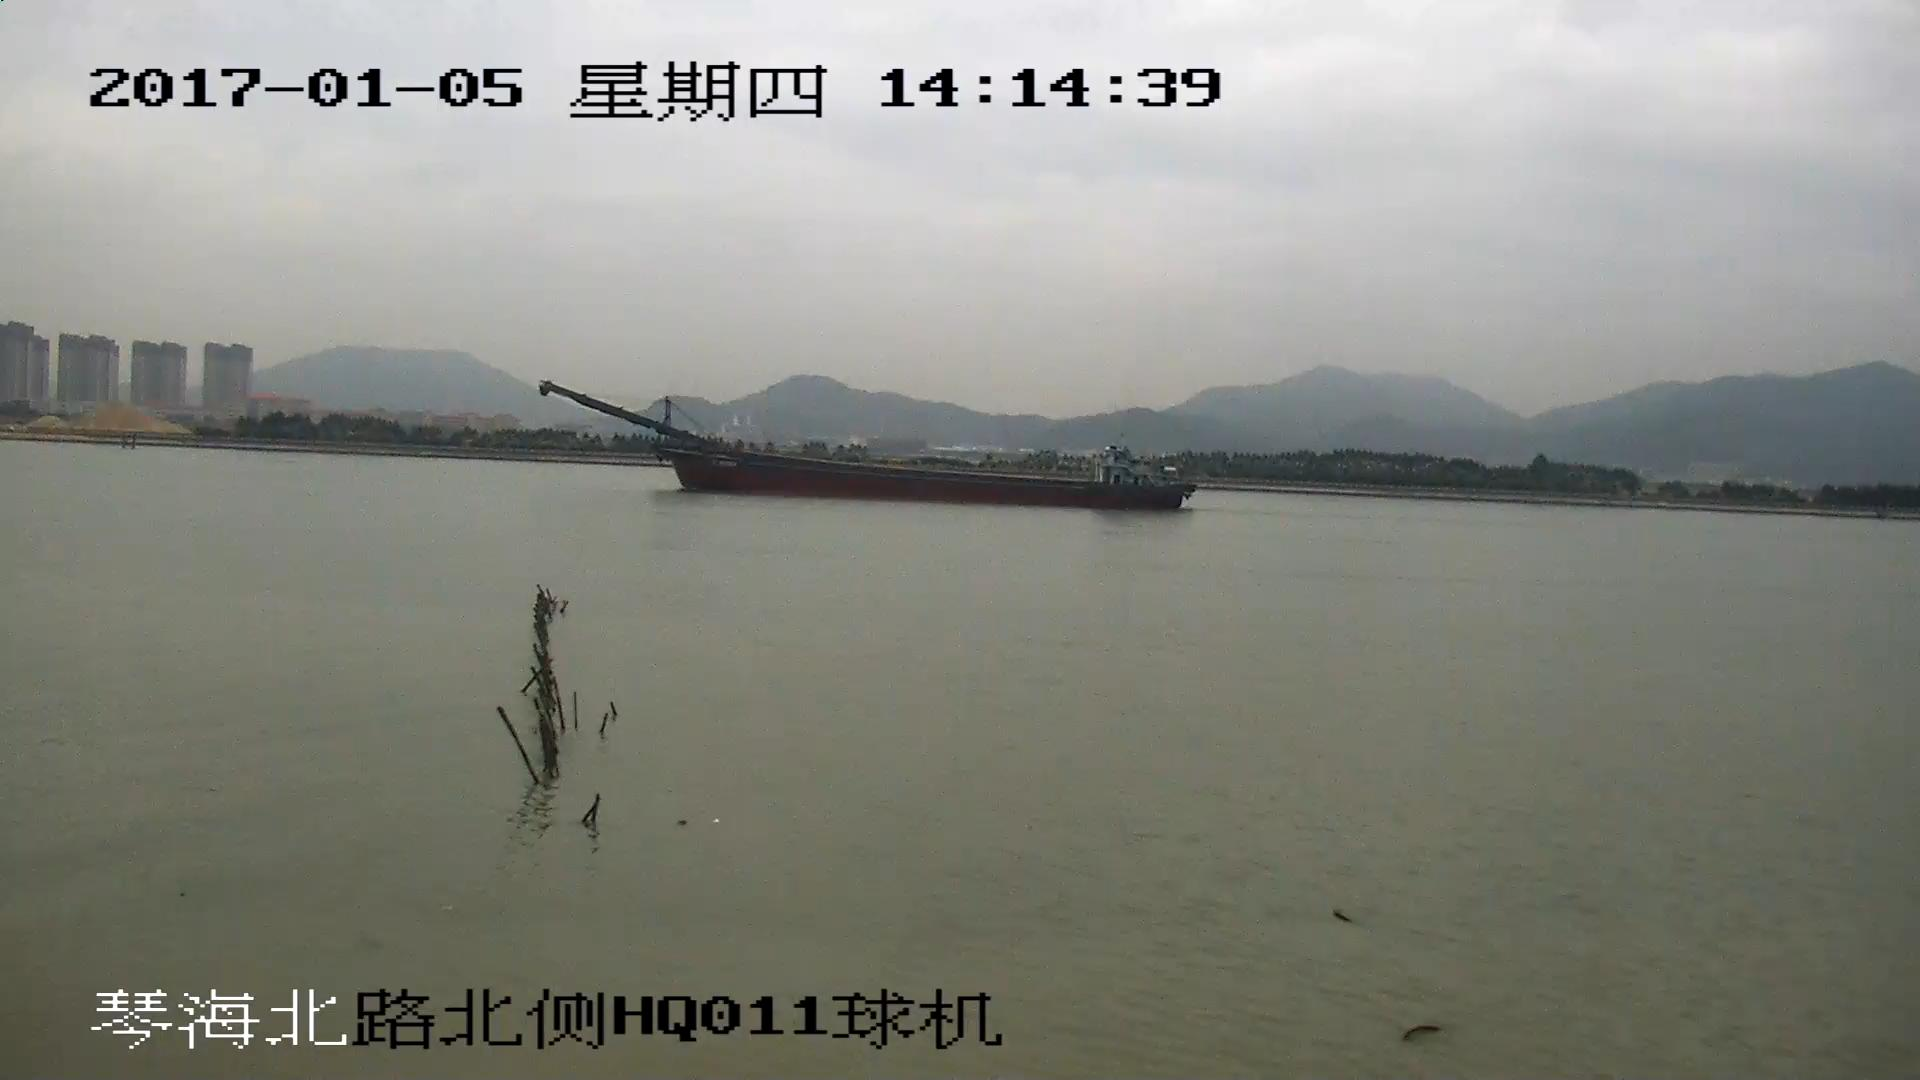bulk cargo carrier: (540, 385, 1197, 507)
